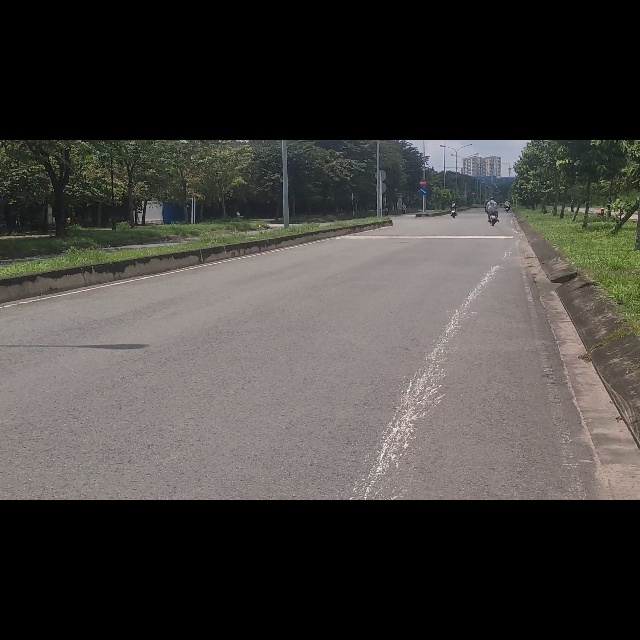bien_hieu_lenh: (419, 69, 427, 82), (419, 85, 427, 98)
